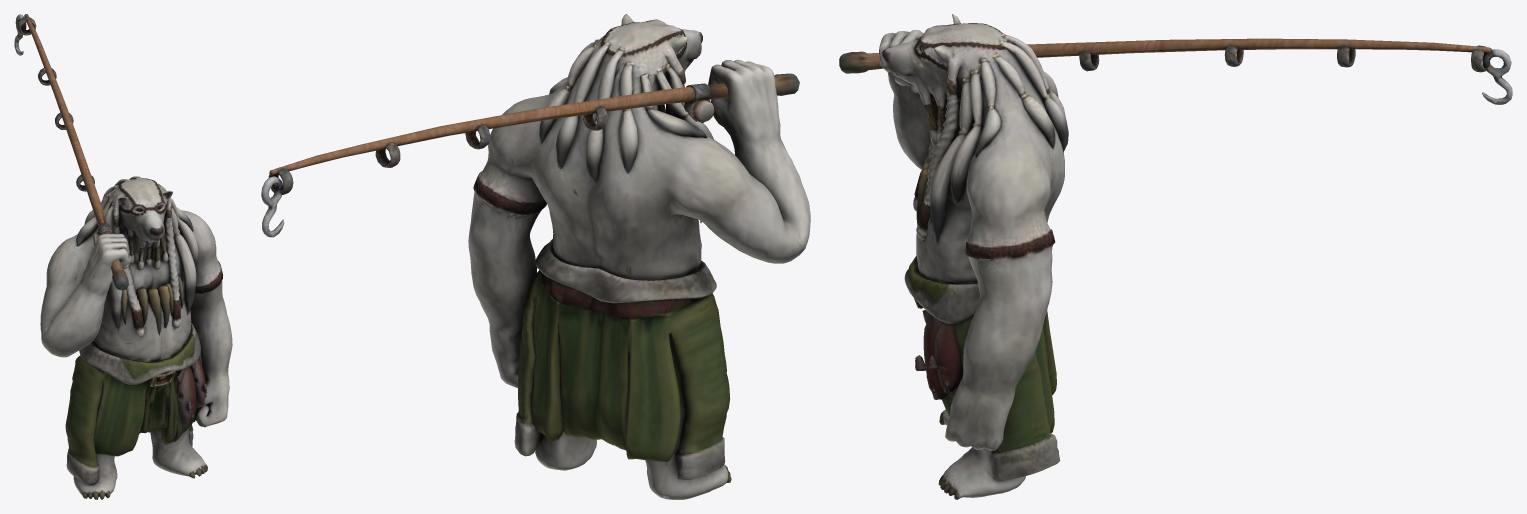
File: MZ4250 - Werebear_FishingPole.glb
3 renders of one model, left to right at view 1: azimuth 30°, elevation 25°; view 2: azimuth 150°, elevation 25°; view 3: azimuth 270°, elevation 25°, orthographic. The views are drawn at different scales.
Parts seen in each view (by area): view 1: Torus.001; view 2: Torus.001; view 3: Torus.001.
Part boxes in pixels (bbox=[...]): Torus.001: bbox=[14, 14, 232, 499]; Torus.001: bbox=[261, 14, 810, 499]; Torus.001: bbox=[839, 14, 1512, 499].
Size of the model in its own units: 86.99 by 130 by 173.
Materials: 2 (2 with a texture image).
